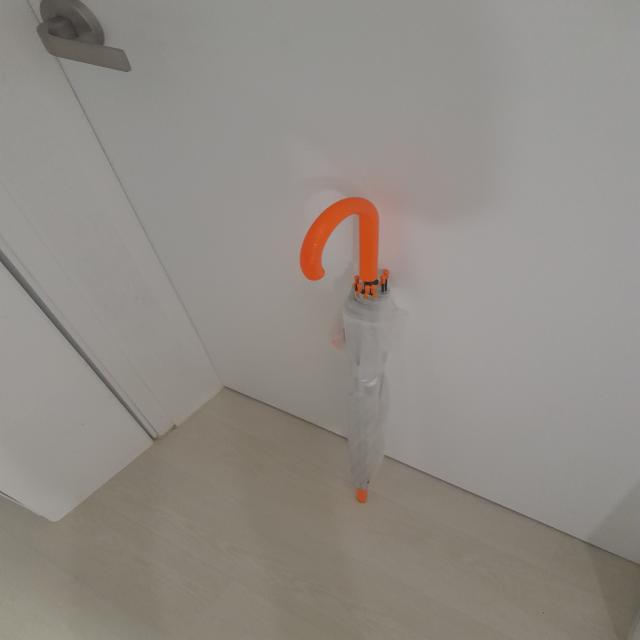umbrella: (298, 197, 405, 507)
